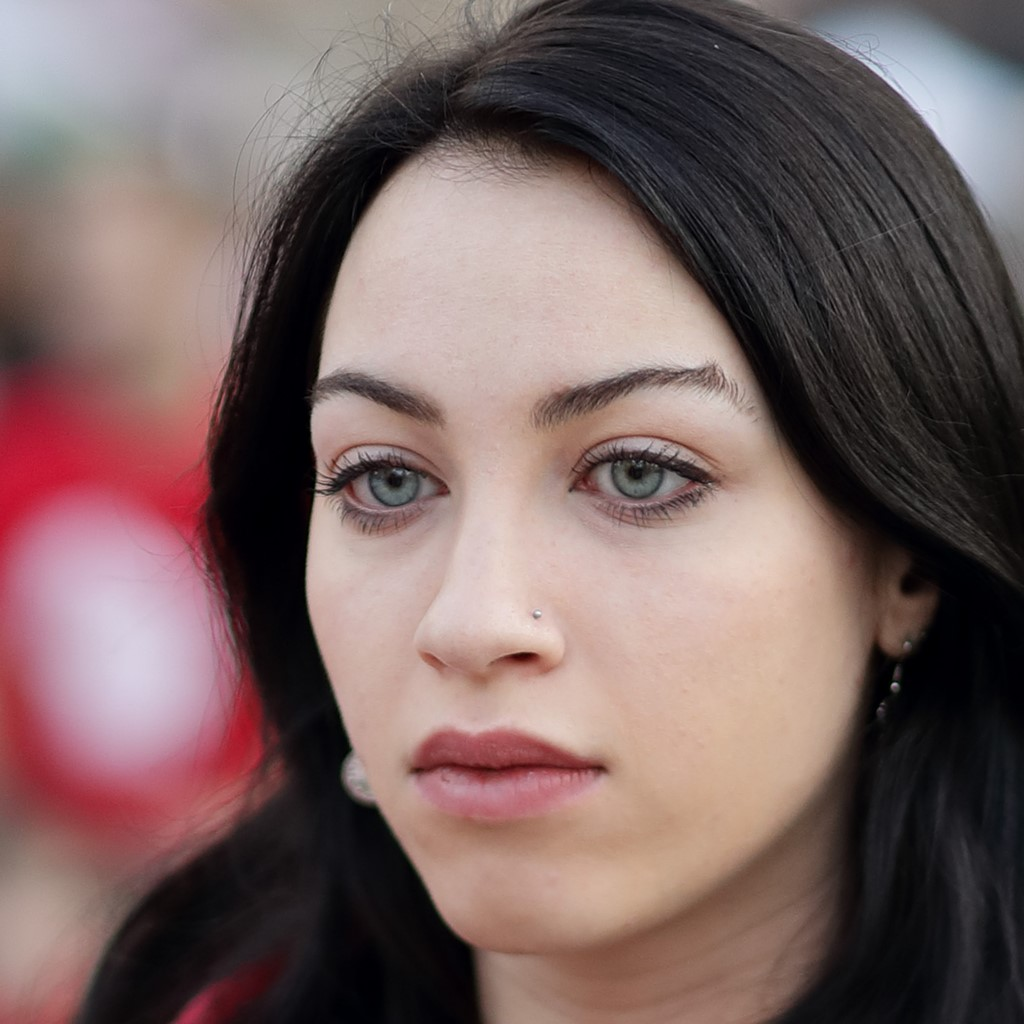sin_mascara: (284, 105, 913, 949)
